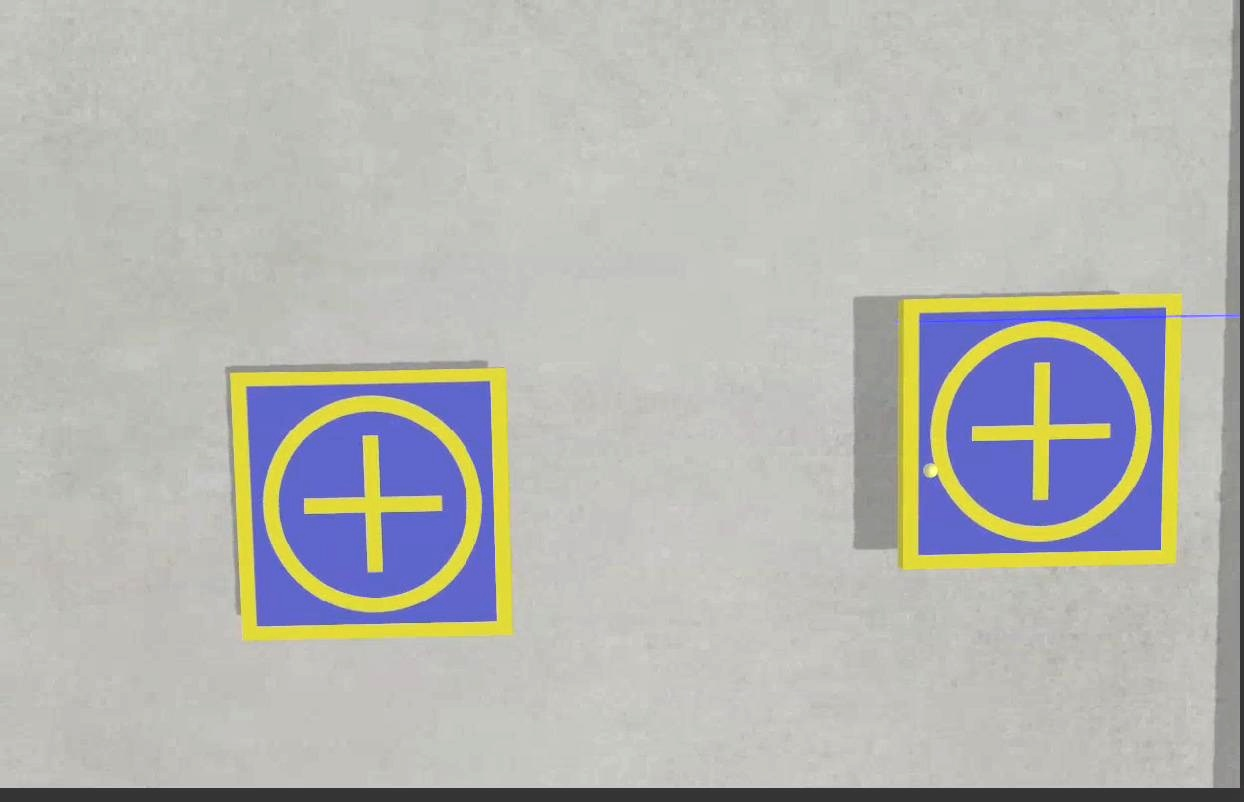small_base: (225, 364, 514, 644), (899, 295, 1181, 571)
